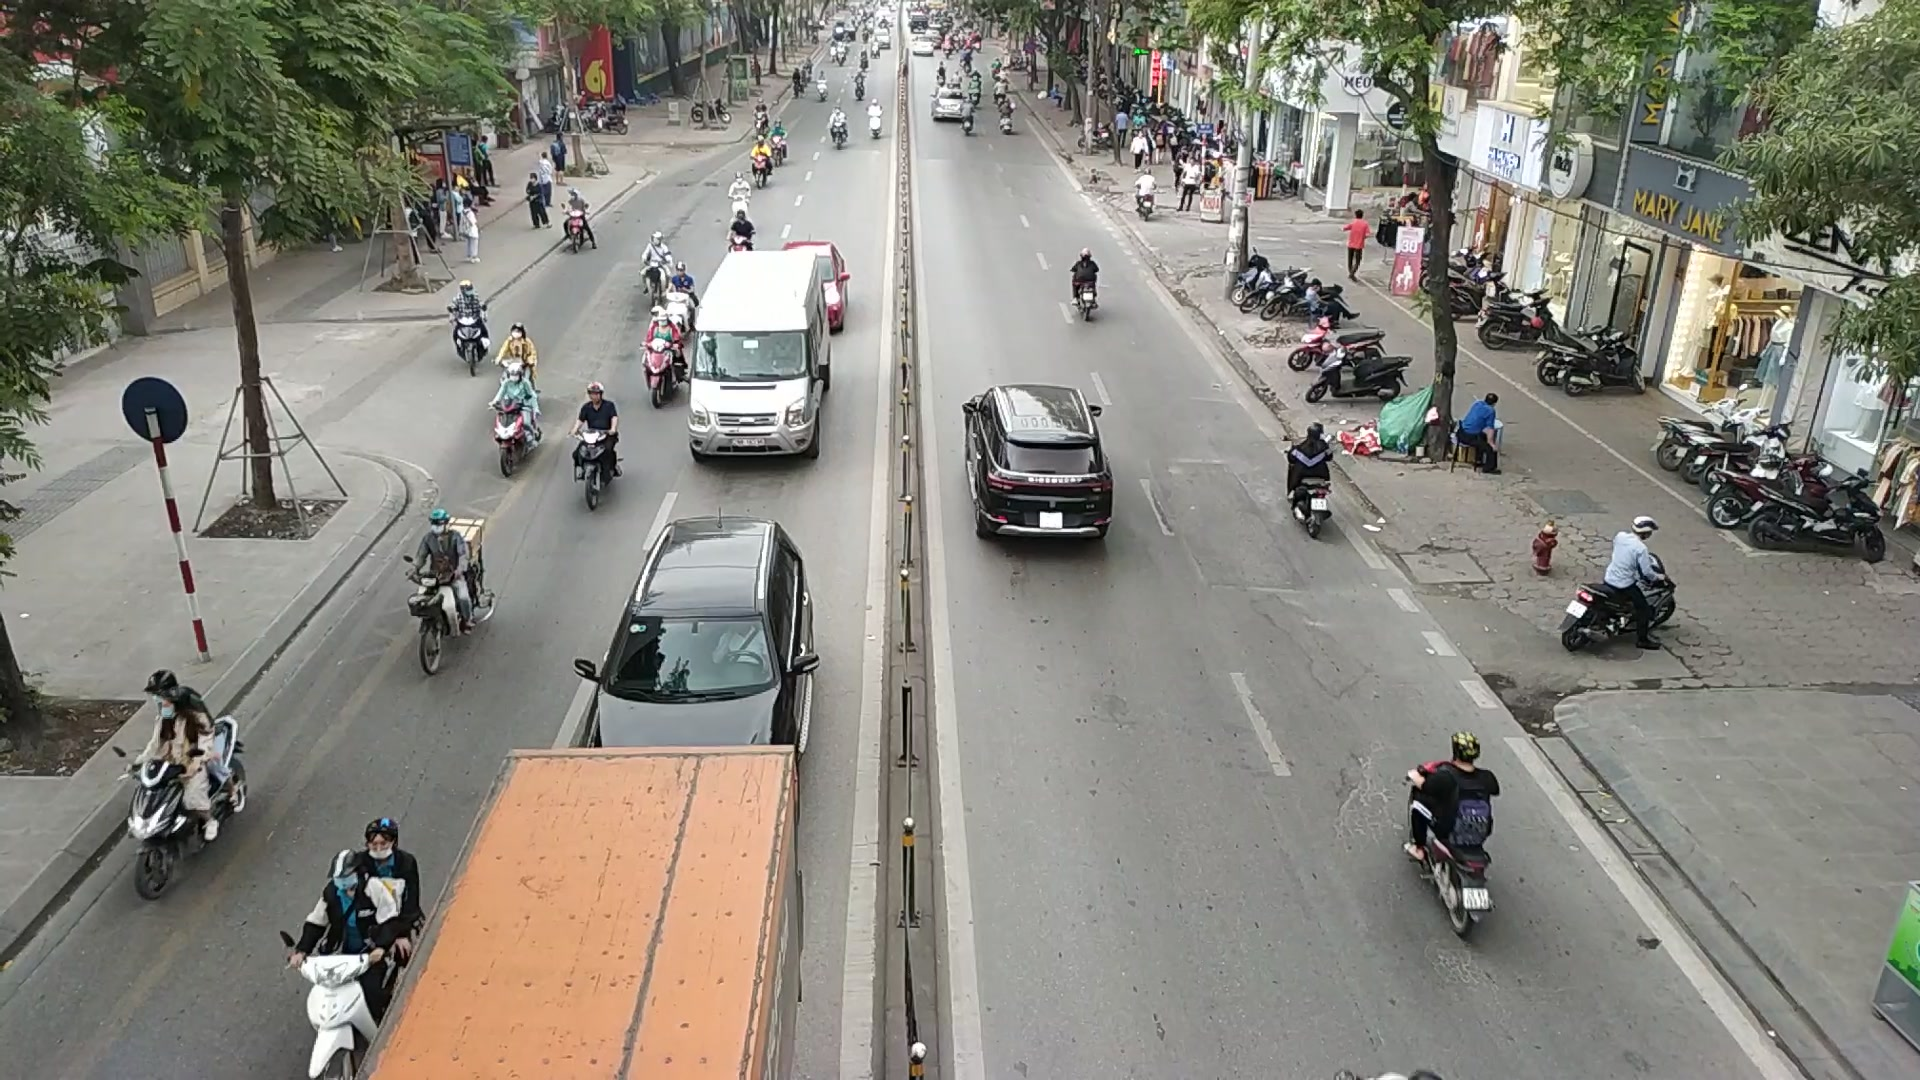car: (572, 516, 822, 744), (673, 249, 831, 462), (961, 382, 1113, 541), (779, 239, 851, 334), (930, 84, 968, 121)
motor: (278, 818, 427, 1080), (112, 687, 248, 899), (1402, 731, 1499, 935), (1556, 516, 1676, 650), (404, 508, 487, 675), (566, 381, 622, 510), (487, 363, 543, 477), (1280, 422, 1333, 538), (638, 309, 684, 409), (447, 280, 489, 377), (491, 320, 538, 385), (659, 260, 694, 338), (640, 229, 673, 307), (1069, 247, 1098, 322), (559, 189, 589, 253), (748, 135, 773, 189), (725, 208, 757, 251), (727, 171, 752, 218), (767, 117, 789, 169), (827, 105, 848, 152), (865, 98, 885, 138), (996, 98, 1017, 135), (752, 98, 770, 138), (957, 95, 976, 135)
truck: (356, 744, 803, 1080)
